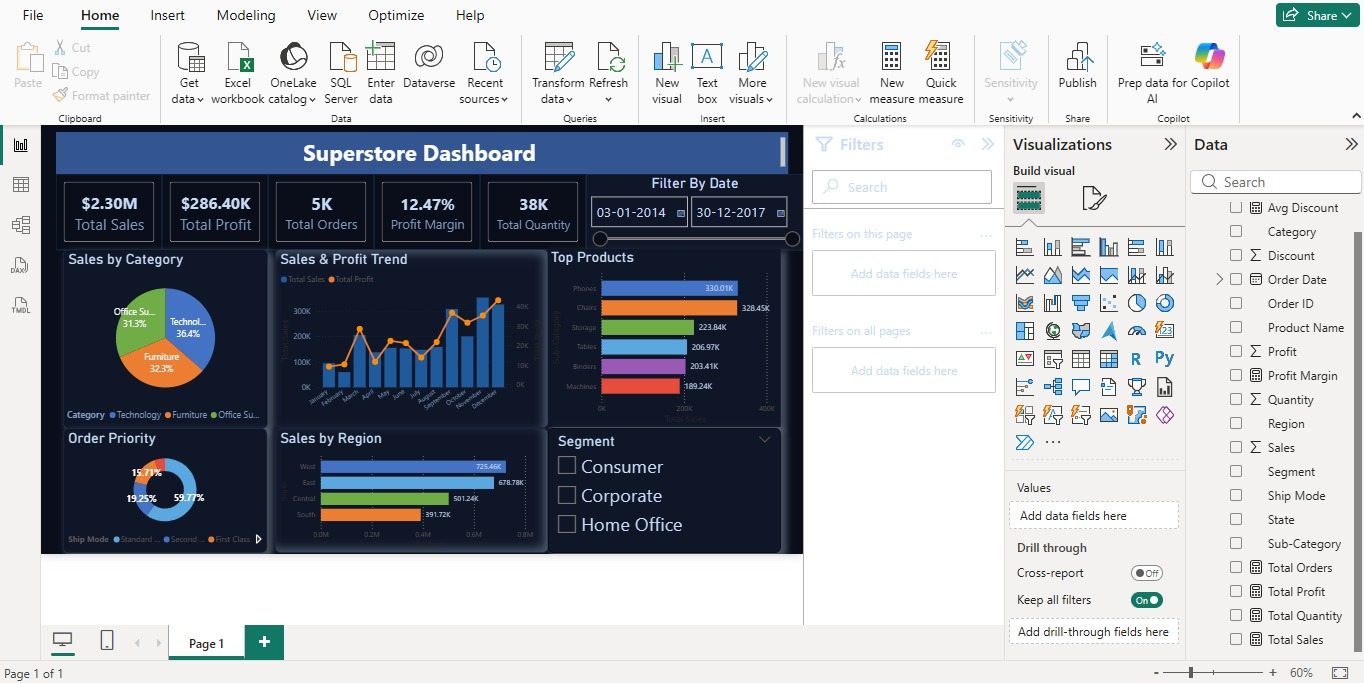

What the dashboard file says about the page in this screenshot:
{"tool":"powerbi","page":{"name":"Page 1","canvas":[1280,720],"ordinal":0},"visuals":[{"type":"textbox","box":[25.2,11.8,1229.6,70.6],"z":0},{"type":"cardVisual","fields":{"Data":["Sample - Superstore.Total Sales"]},"box":[25.2,82.3,178.1,127.7],"z":1000},{"type":"cardVisual","fields":{"Data":["Sample - Superstore.Total Orders"]},"box":[381.3,82.3,178.1,127.7],"z":2000},{"type":"cardVisual","fields":{"Data":["Sample - Superstore.Total Profit"]},"box":[203.3,82.3,178.1,127.7],"z":3000},{"type":"cardVisual","fields":{"Data":["Sample - Superstore.Profit Margin"]},"box":[559.4,82.3,178.1,127.7],"z":4000},{"type":"cardVisual","fields":{"Data":["Sample - Superstore.Total Quantity"]},"box":[737.4,82.3,178.1,127.7],"z":5000},{"type":"slicer","title":"Filter By Date","fields":{"Values":["Sample - Superstore.Order Date"]},"box":[915.5,82.3,364.5,127.7],"z":6000},{"type":"pieChart","title":"Sales by Category","fields":{"Category":["Sample - Superstore.Category"],"Y":["Sample - Superstore.Total Sales"]},"box":[37,208.3,344.4,302.4],"z":7000},{"type":"lineClusteredColumnComboChart","title":"Sales & Profit Trend","fields":{"Category":["Sample - Superstore.Order Date.Variation.Date Hierarchy.Month"],"Y":["Sample - Superstore.Total Sales"],"Y2":["Sample - Superstore.Total Profit"]},"box":[393.1,208.3,458.6,300.7],"z":8000},{"type":"clusteredBarChart","title":"Top Products","fields":{"Category":["Sample - Superstore.Sub-Category"],"Y":["Sample - Superstore.Total Sales"]},"box":[851.7,208.3,391.4,299],"z":9000},{"type":"donutChart","title":"Order Priority","fields":{"Category":["Sample - Superstore.Ship Mode"],"Y":["Sample - Superstore.Total Orders"]},"box":[37,509,342.7,210],"z":10000},{"type":"clusteredBarChart","title":"Sales by Region","fields":{"Category":["Sample - Superstore.Region"],"Y":["Sample - Superstore.Total Sales"]},"box":[393.1,509,458.6,210],"z":11000},{"type":"slicer","title":"Segment","fields":{"Values":["Sample - Superstore.Segment"]},"box":[852,509,391,210],"z":12000}]}

Visuals, with their boxes on the page's 1280x720 design canvas (x1, y1, x2, y2). These are canvas units, not pixel positions in the 1364x683 screenshot, which may show the page scaled, cropped or inside an application window:
textbox: 25/12/1255/82
cardVisual - Sample - Superstore.Total Sales: 25/82/203/210
cardVisual - Sample - Superstore.Total Orders: 381/82/559/210
cardVisual - Sample - Superstore.Total Profit: 203/82/381/210
cardVisual - Sample - Superstore.Profit Margin: 559/82/738/210
cardVisual - Sample - Superstore.Total Quantity: 737/82/916/210
"Filter By Date" slicer: 916/82/1280/210
"Sales by Category" pieChart: 37/208/381/511
"Sales & Profit Trend" lineClusteredColumnComboChart: 393/208/852/509
"Top Products" clusteredBarChart: 852/208/1243/507
"Order Priority" donutChart: 37/509/380/719
"Sales by Region" clusteredBarChart: 393/509/852/719
"Segment" slicer: 852/509/1243/719
